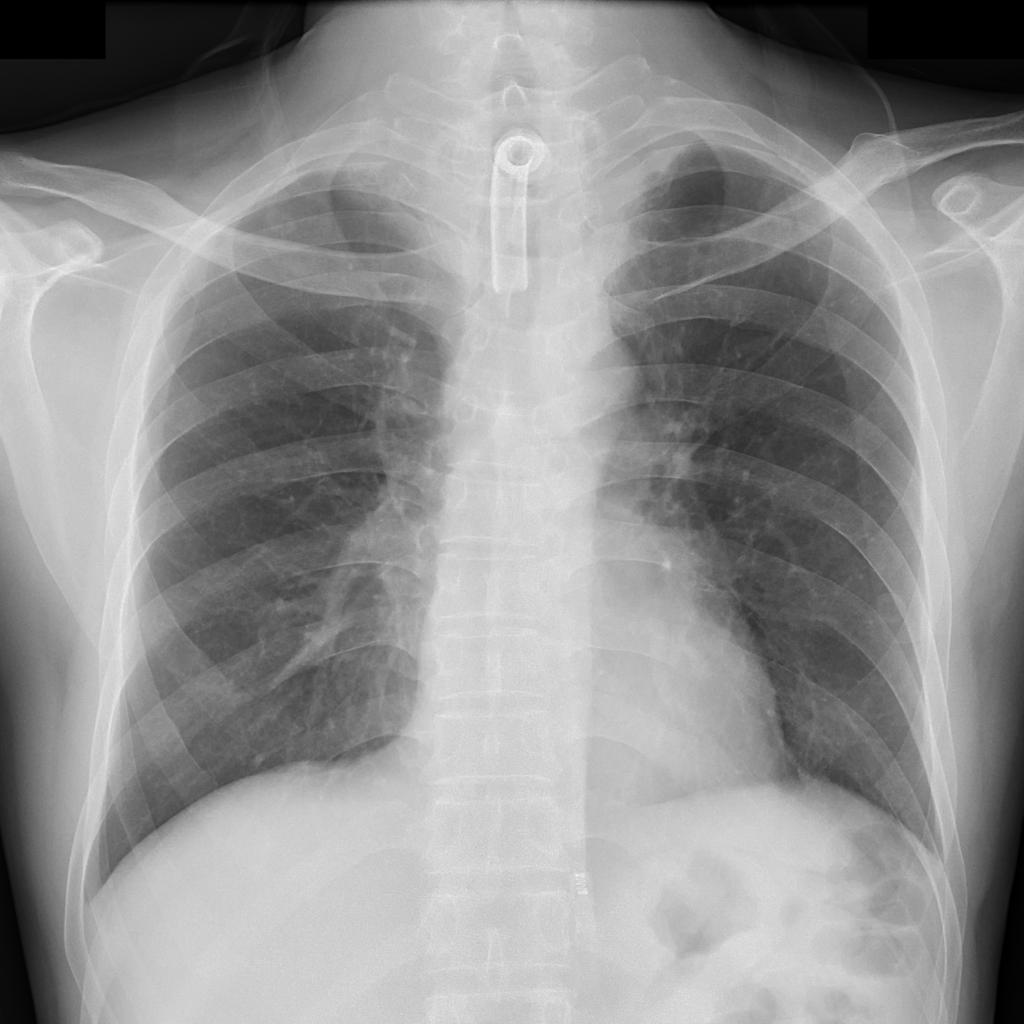Nodule: (265, 208, 298, 236), (877, 594, 905, 623)
